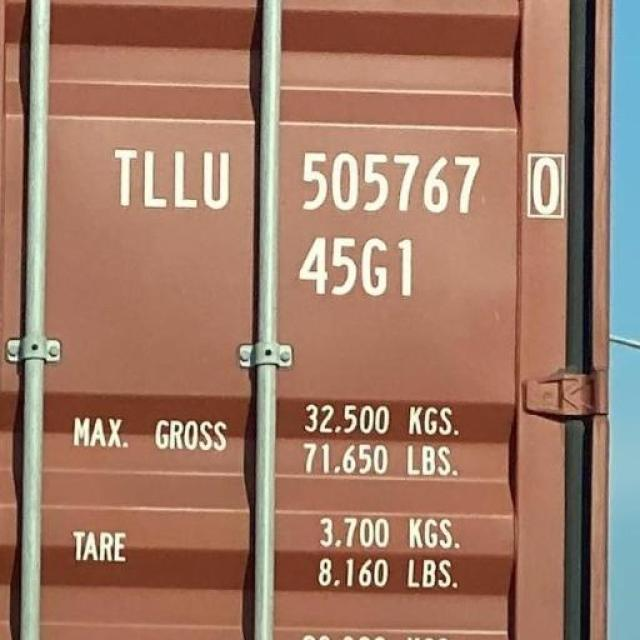ISO: (303, 227, 414, 304)
container_number: (112, 140, 572, 217)
